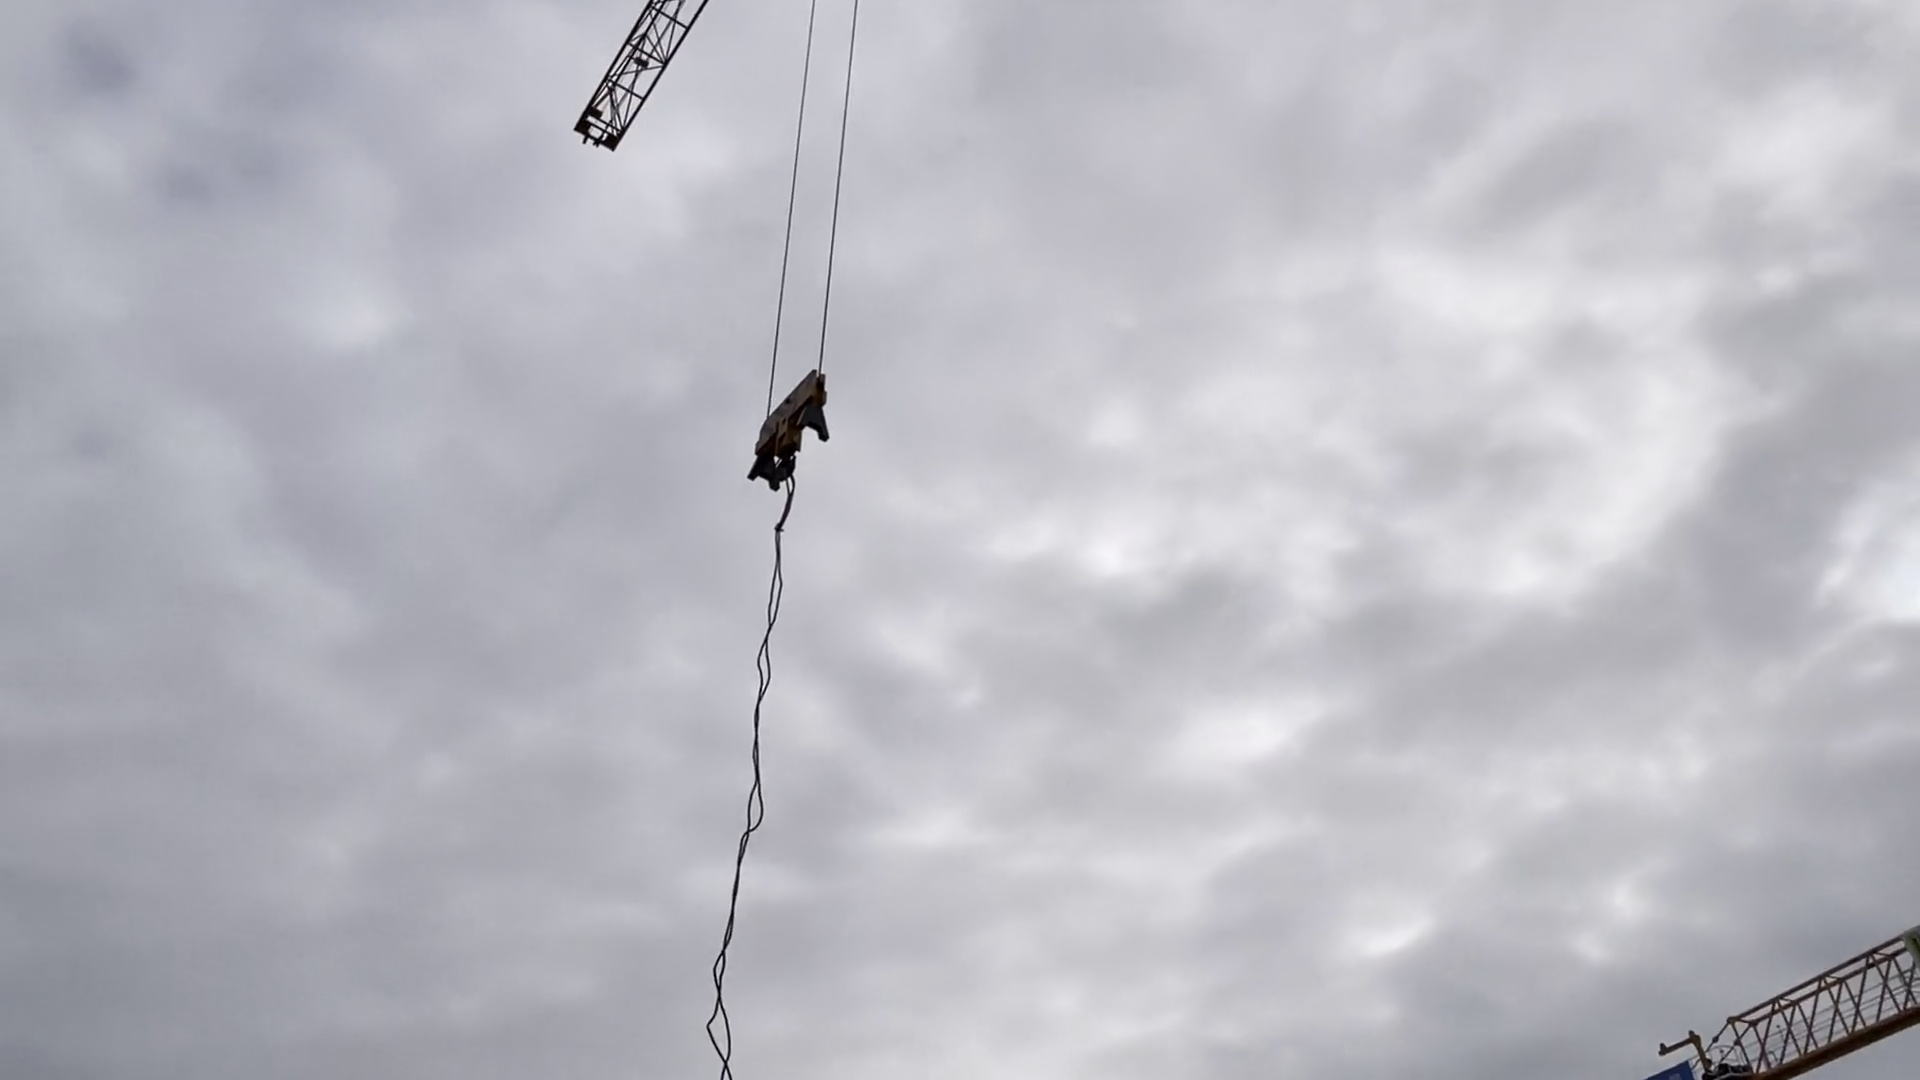hook: (746, 369, 835, 492)
